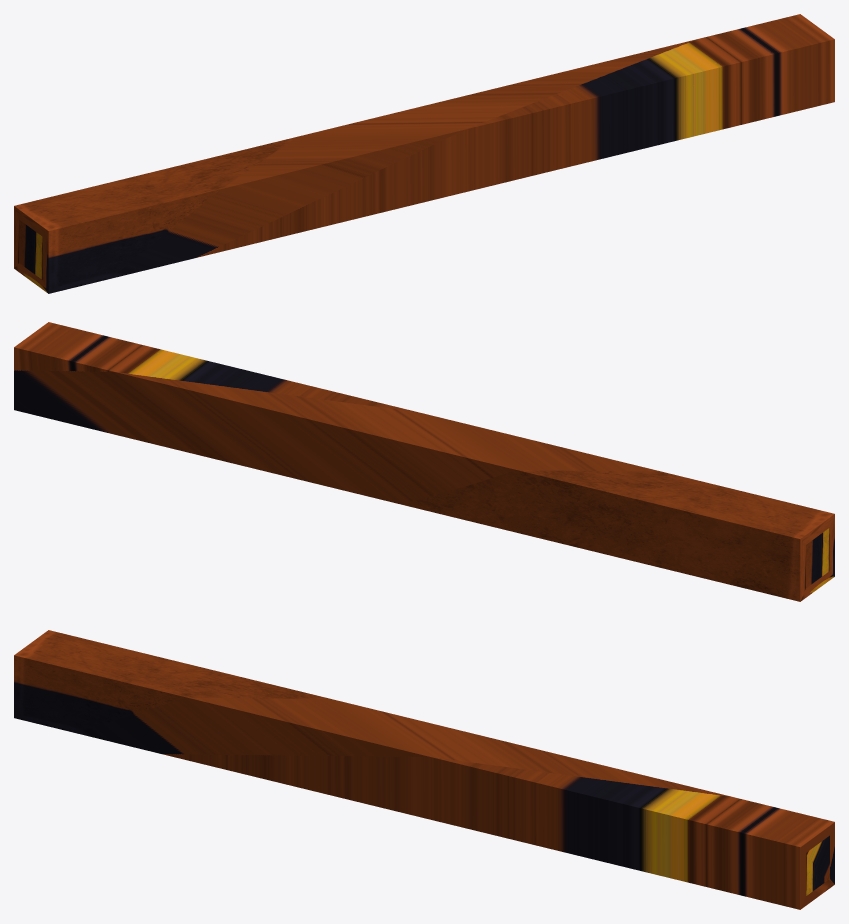
Rendered from Wall-foor corner.fbx.
3 renders of one model, top to bottom at view 1: azimuth 30°, elevation 25°; view 2: azimuth 150°, elevation 25°; view 3: azimuth 330°, elevation 25°, orthographic.
Parts seen in each view (by area): view 1: Wall-Floor corner Low; view 2: Wall-Floor corner Low; view 3: Wall-Floor corner Low.
Part boxes in pixels (x1=…): Wall-Floor corner Low: x1=14, y1=14, x2=834, y2=293; Wall-Floor corner Low: x1=14, y1=322, x2=834, y2=601; Wall-Floor corner Low: x1=14, y1=630, x2=834, y2=909.
Bounding box in the file's own units: 224 × 17.05 × 17.05.
